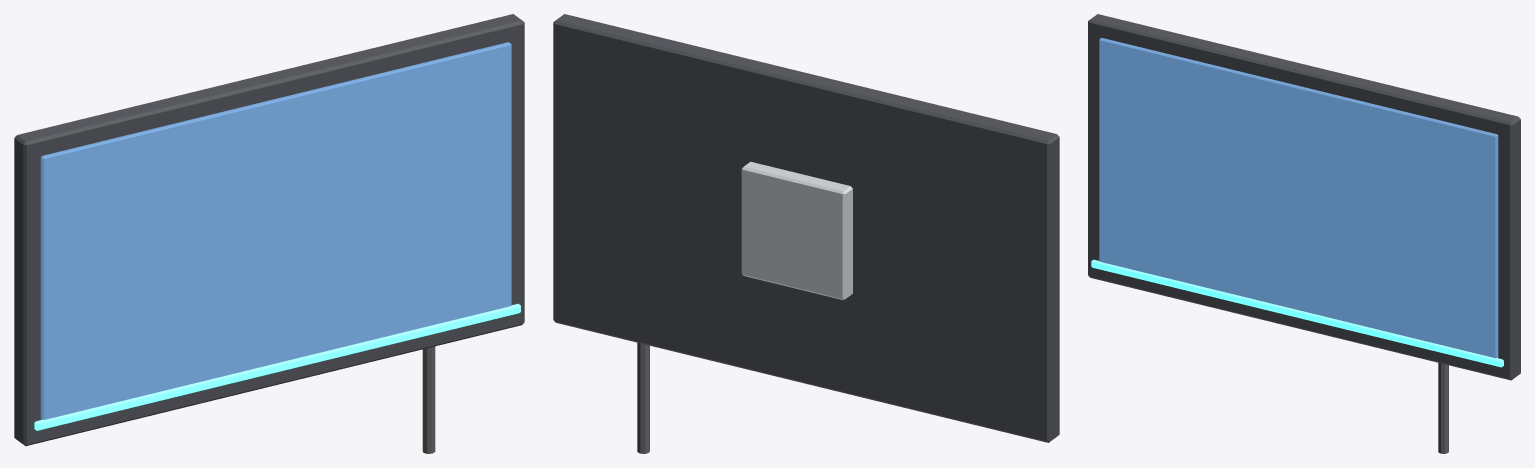
File: cyberpunk-apartment-and-neon-block-wall-mounted-displa-9be631ad__37810.glb
3 views of the same model, side by side, from view 1: azimuth 30°, elevation 25°; view 2: azimuth 150°, elevation 25°; view 3: azimuth 330°, elevation 25° (orthographic). The views are drawn at different scales.
Parts seen in each view (by area): view 1: wall-mounted-display-panel; view 2: wall-mounted-display-panel; view 3: wall-mounted-display-panel.
Part boxes in pixels (x1=…): wall-mounted-display-panel: x1=14, y1=14, x2=524, y2=453; wall-mounted-display-panel: x1=553, y1=14, x2=1059, y2=453; wall-mounted-display-panel: x1=1088, y1=14, x2=1520, y2=453.
Bounding box in the file's own units: 1.24 × 0.98 × 0.101.
